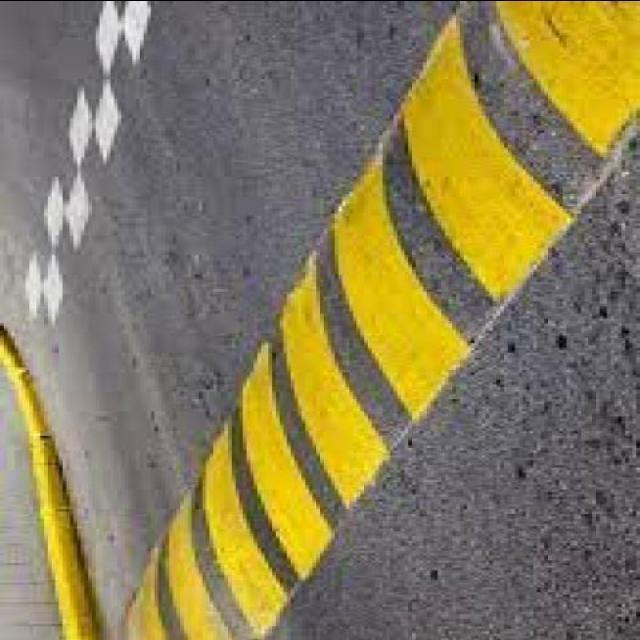speedbreaker: (112, 0, 640, 640)
